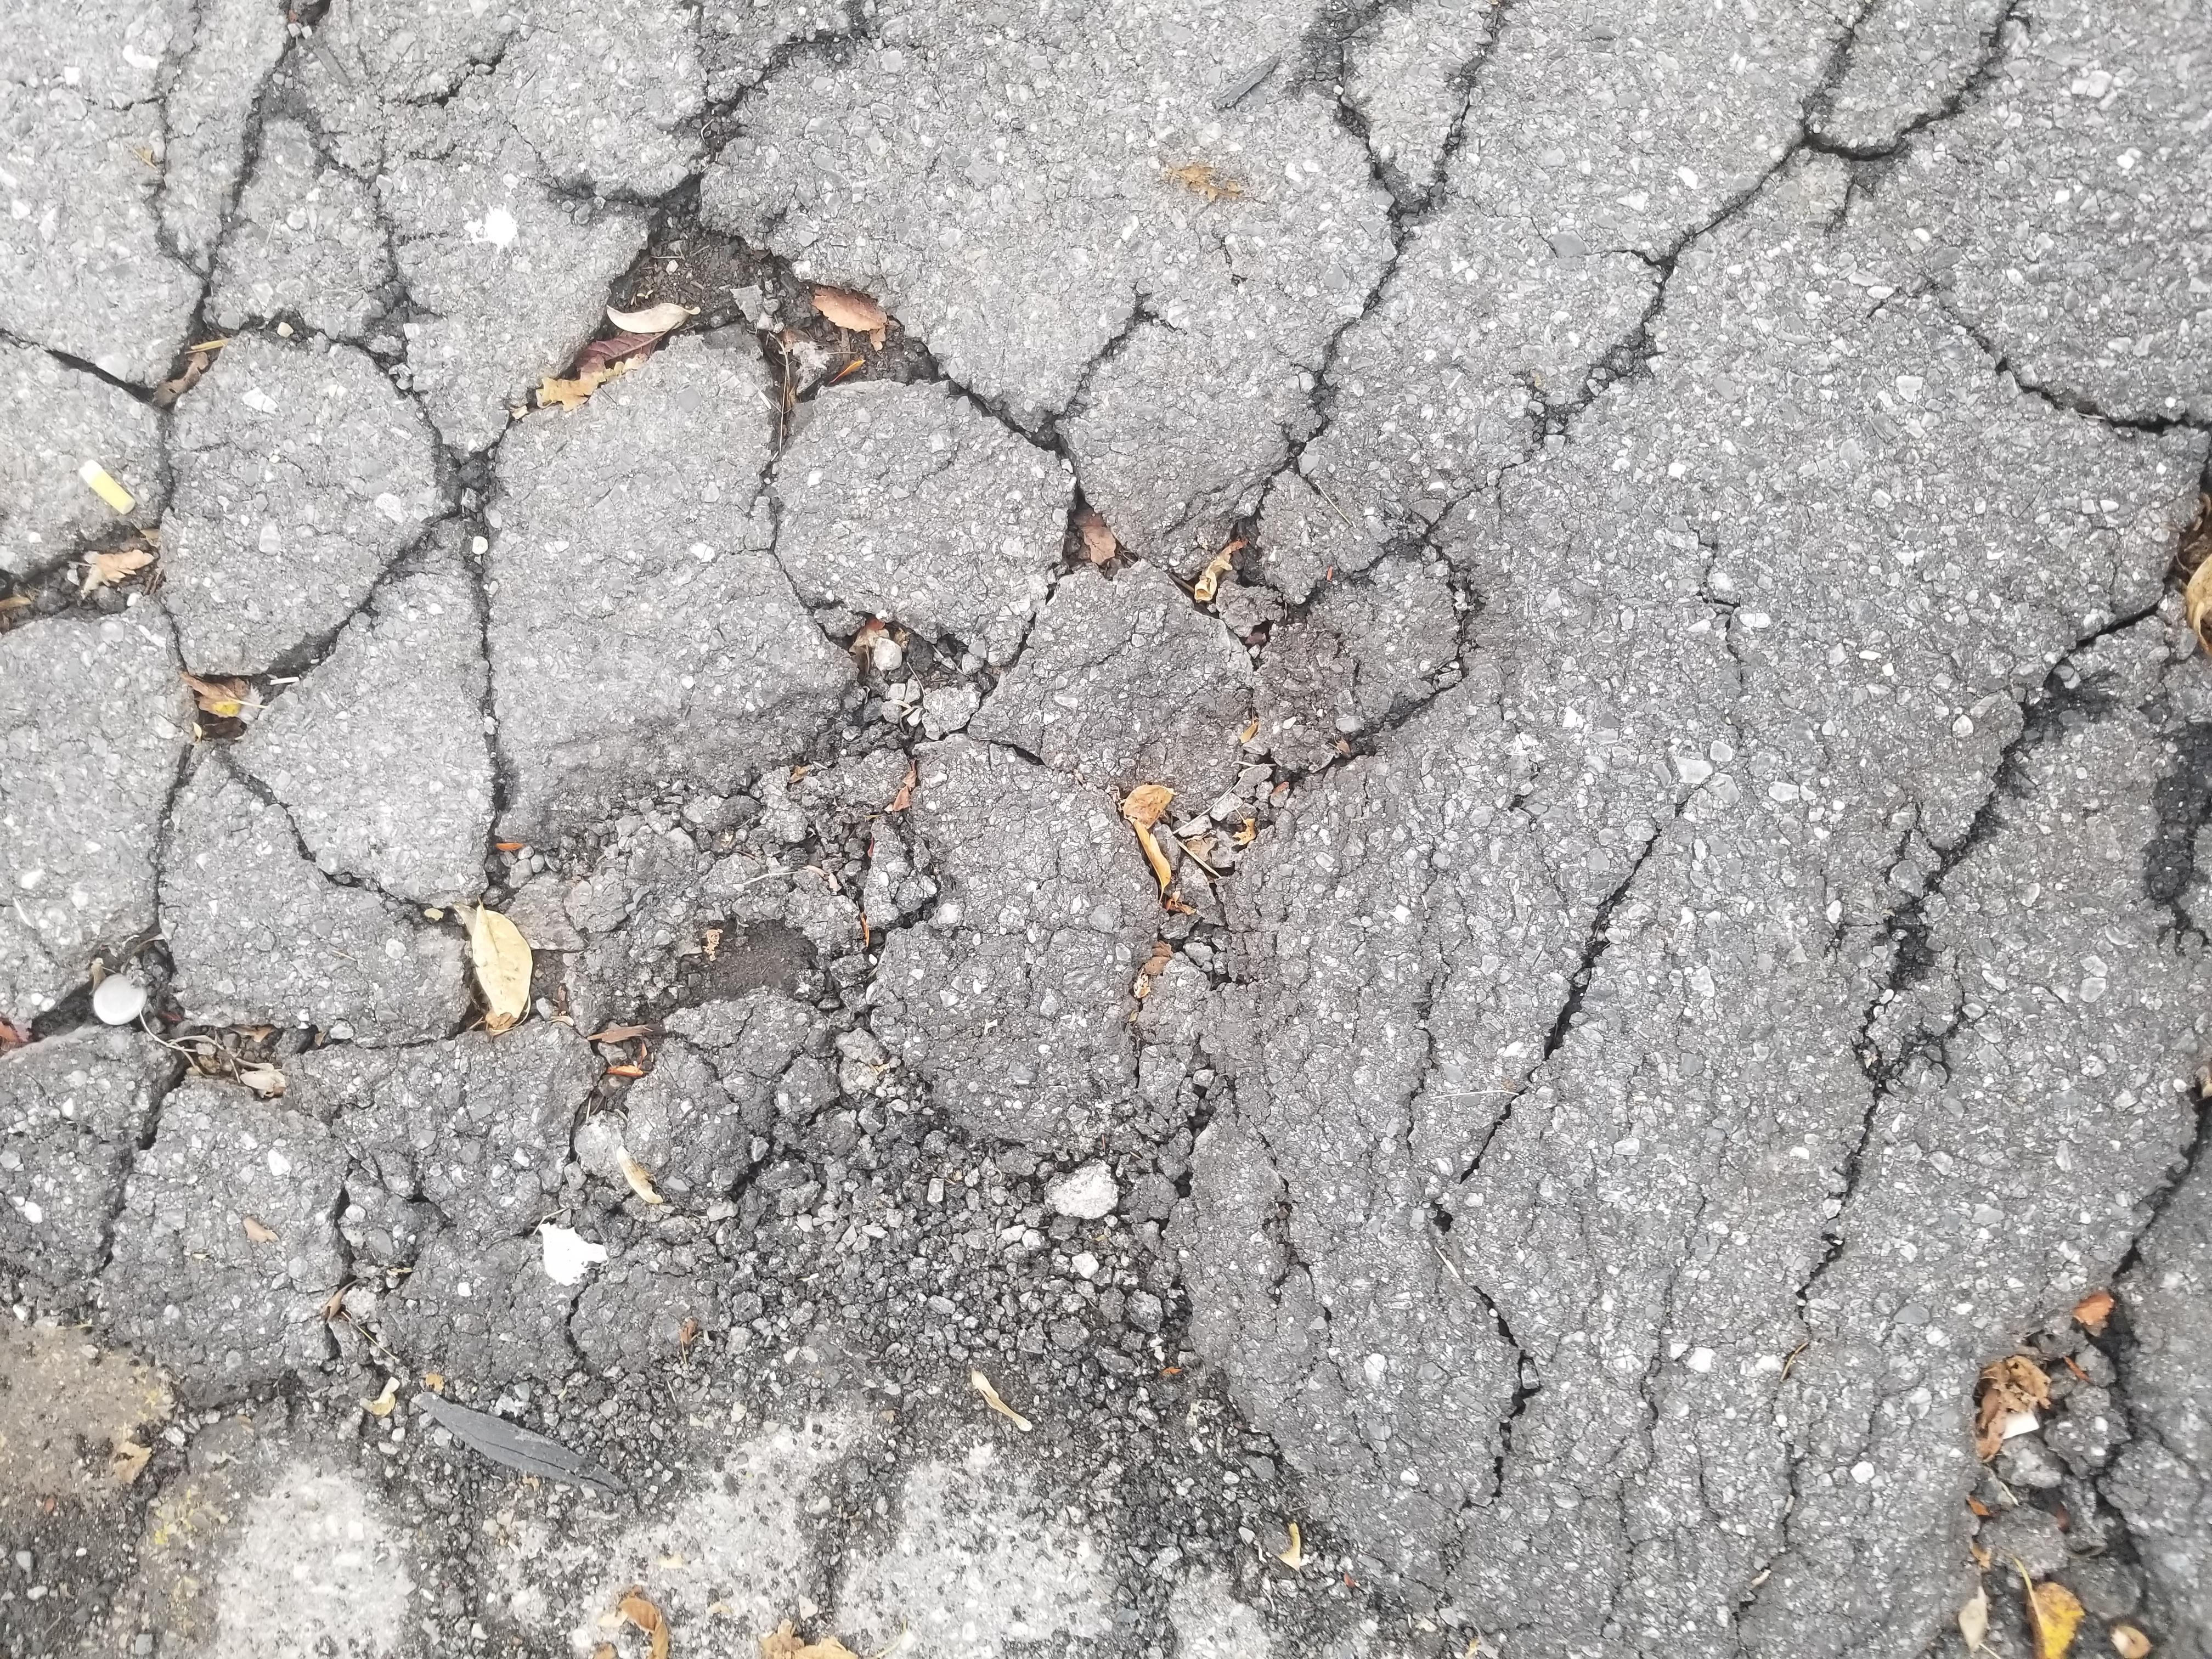alligator-crack: (324, 0, 2212, 1140)
crack: (0, 1248, 1911, 1659), (1575, 1115, 2212, 1598)
